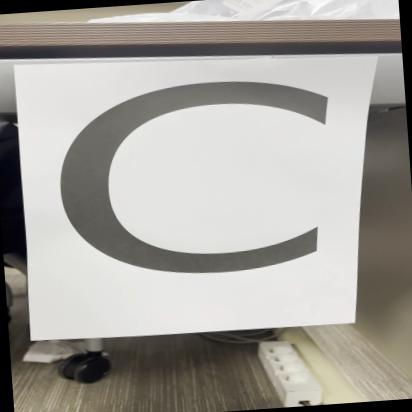seat: (3, 46, 380, 334)
